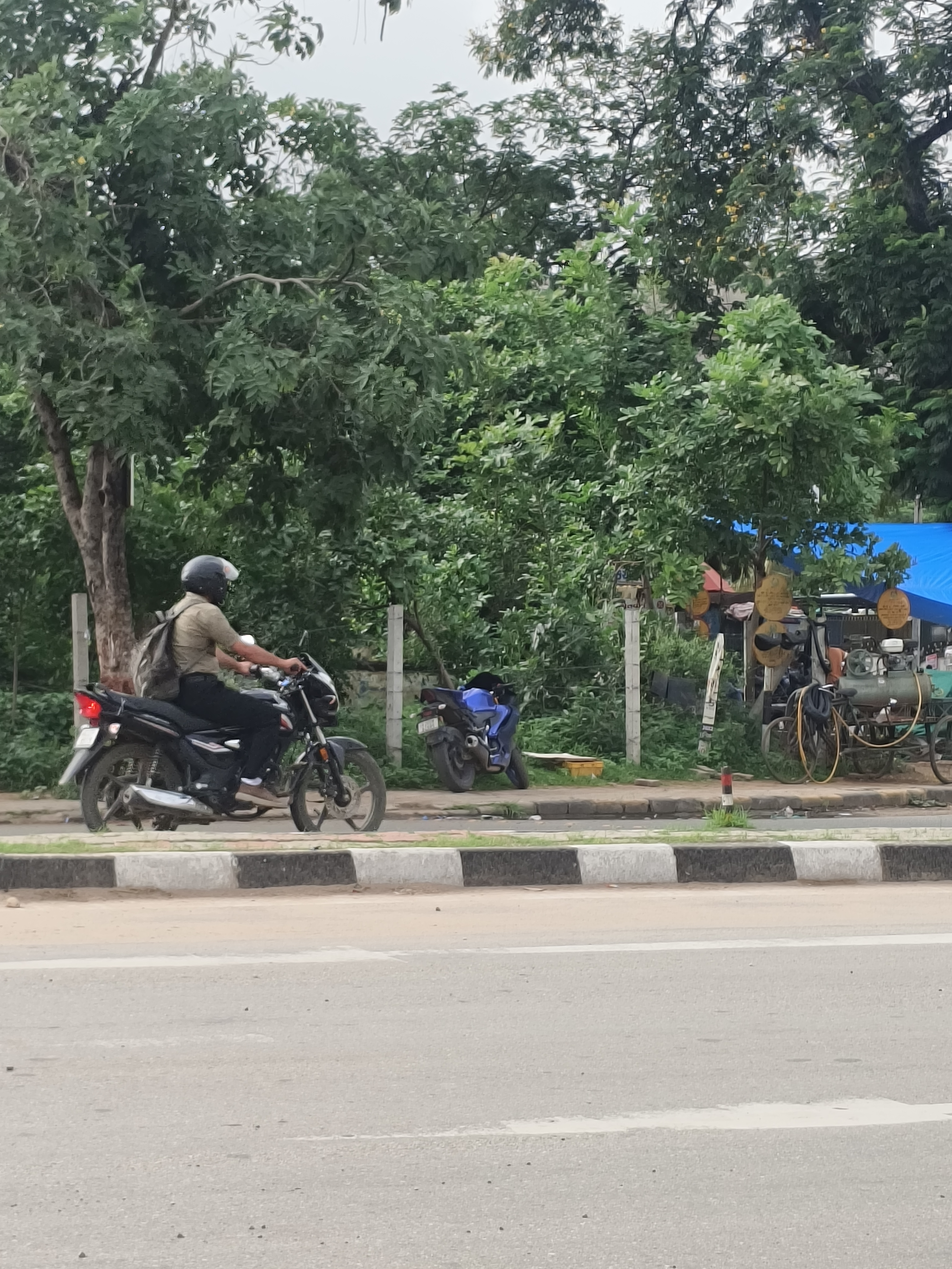BikeWithRider: (50, 547, 392, 838)
Helmet: (176, 549, 236, 612)
